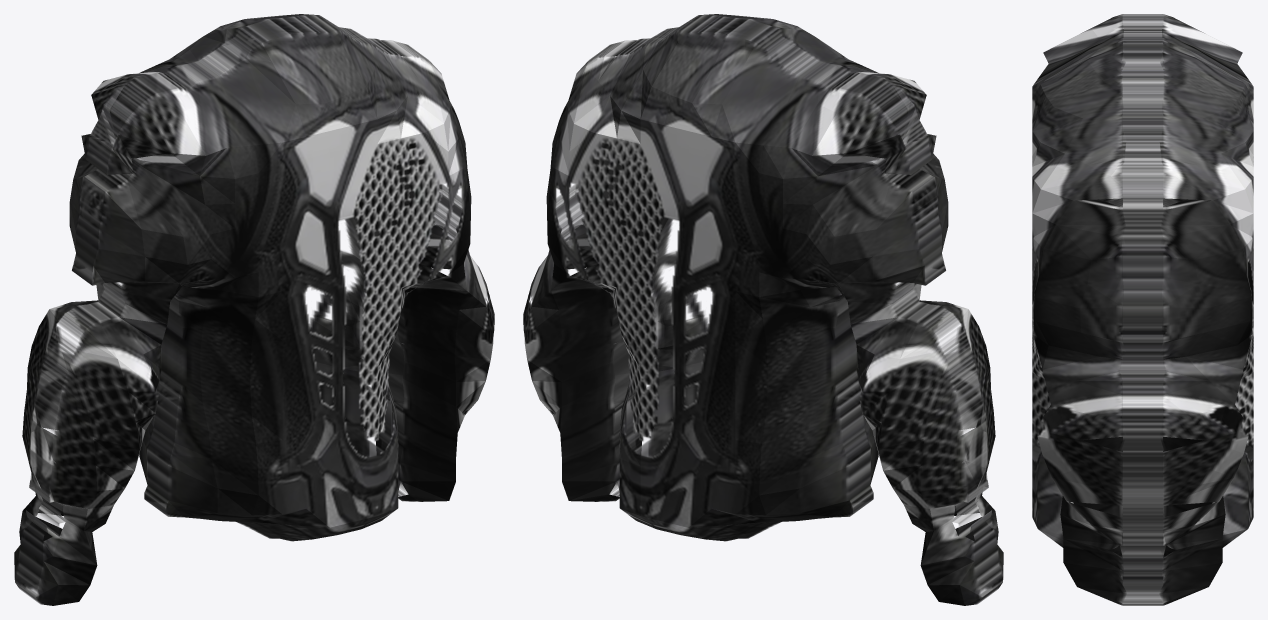
The model's file is puig-vector-armored-shirt-170.glb.
3 views of the same model, side by side, from view 1: azimuth 30°, elevation 25°; view 2: azimuth 150°, elevation 25°; view 3: azimuth 270°, elevation 25° (orthographic). The views are drawn at different scales.
Parts seen in each view (by area): view 1: world; view 2: world; view 3: world.
Boxes of the visible parts, x1=… form: world: x1=14, y1=14, x2=494, y2=605; world: x1=523, y1=14, x2=1003, y2=605; world: x1=1032, y1=14, x2=1253, y2=605.
Size of the model in its own units: 0.9196 by 1 by 0.4.
Materials: 1 (1 with a texture image).
